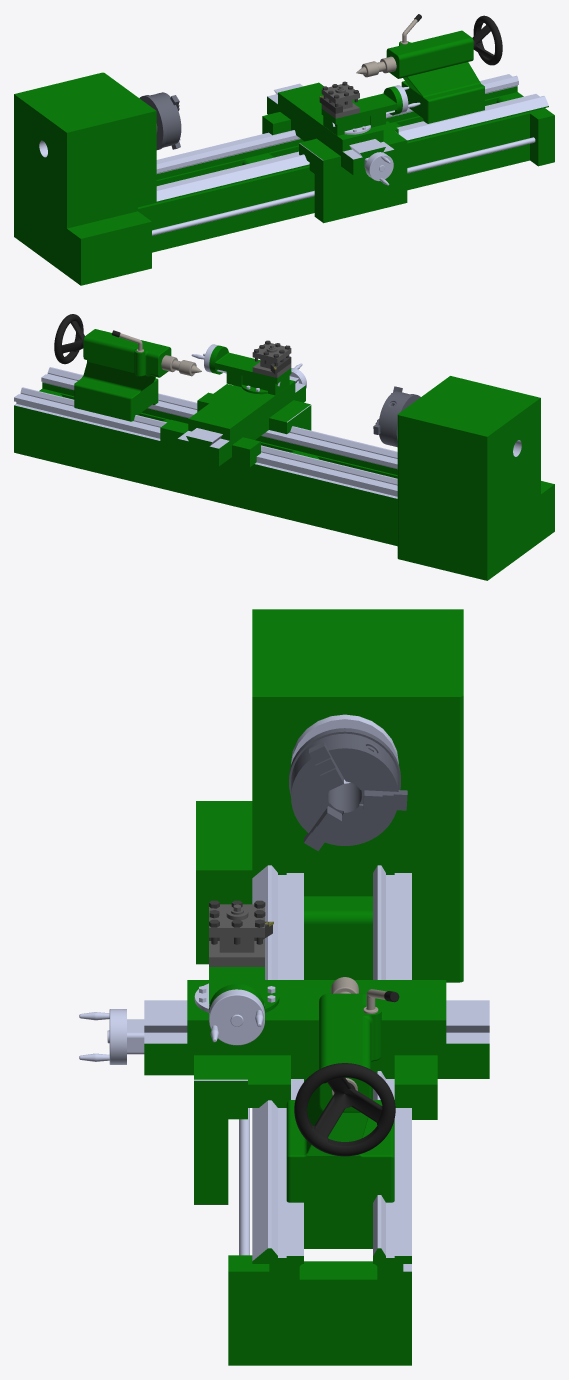
Rendered from TORNO-MONTAGEM-V01.fbx.
The picture shows the model from 3 angles, top to bottom: view 1: azimuth 30°, elevation 25°; view 2: azimuth 150°, elevation 25°; view 3: azimuth 270°, elevation 25°; orthographic projection. The views are drawn at different scales.
Parts seen in each view (by area): view 1: 3DGeom~559, 3DGeom~560, 3DGeom~60, 3DGeom~349, 3DGeom~136, Body_1_16, 3DGeom~156, Body_1_15, 3DGeom~59, Body_1_2, Body_1_3, Body_1_14; view 2: 3DGeom~559, 3DGeom~560, 3DGeom~349, 3DGeom~60, 3DGeom~136, 3DGeom~156, Body_1_16, Body_1_15, Body_1_2, 3DGeom~59, Body_1_14; view 3: 3DGeom~559, 3DGeom~560, 3DGeom~60, 3DGeom~349, Body_1_16, 3DGeom~136, Body_1_15, 3DGeom~59, Body_1_2, Body_1, 3DGeom~156, Body_1_3.
Part boxes in pixels (left/top/right/bottom): 3DGeom~559: left=14, top=72, right=554, bottom=285; 3DGeom~560: left=39, top=74, right=548, bottom=235; 3DGeom~60: left=262, top=96, right=407, bottom=223; 3DGeom~349: left=386, top=30, right=484, bottom=123; 3DGeom~136: left=278, top=82, right=385, bottom=151; Body_1_16: left=139, top=92, right=181, bottom=149; 3DGeom~156: left=321, top=86, right=402, bottom=126; Body_1_15: left=472, top=15, right=502, bottom=65; 3DGeom~59: left=267, top=83, right=401, bottom=222; Body_1_2: left=321, top=84, right=359, bottom=118; Body_1_3: left=366, top=153, right=393, bottom=185; Body_1_14: left=356, top=56, right=396, bottom=77; 3DGeom~559: left=14, top=376, right=554, bottom=580; 3DGeom~560: left=14, top=367, right=521, bottom=498; 3DGeom~349: left=74, top=329, right=171, bottom=421; 3DGeom~60: left=160, top=384, right=311, bottom=467; 3DGeom~136: left=188, top=372, right=295, bottom=440; 3DGeom~156: left=209, top=345, right=291, bottom=385; Body_1_16: left=373, top=386, right=420, bottom=447; Body_1_15: left=54, top=314, right=84, bottom=364; Body_1_2: left=252, top=343, right=291, bottom=377; 3DGeom~59: left=178, top=370, right=311, bottom=448; Body_1_14: left=161, top=355, right=201, bottom=376; 3DGeom~559: left=196, top=609, right=463, bottom=1365; 3DGeom~560: left=239, top=714, right=411, bottom=1271; 3DGeom~60: left=144, top=1043, right=489, bottom=1204; 3DGeom~349: left=286, top=993, right=394, bottom=1202; Body_1_16: left=289, top=728, right=407, bottom=851; 3DGeom~136: left=187, top=980, right=446, bottom=1043; Body_1_15: left=294, top=1063, right=395, bottom=1156; 3DGeom~59: left=122, top=1000, right=489, bottom=1204; Body_1_2: left=209, top=904, right=264, bottom=966; Body_1: left=209, top=989, right=264, bottom=1045; 3DGeom~156: left=209, top=967, right=264, bottom=1012; Body_1_3: left=79, top=1009, right=122, bottom=1064.
Size of the model in its own units: 2.58 by 0.9503 by 0.73.
